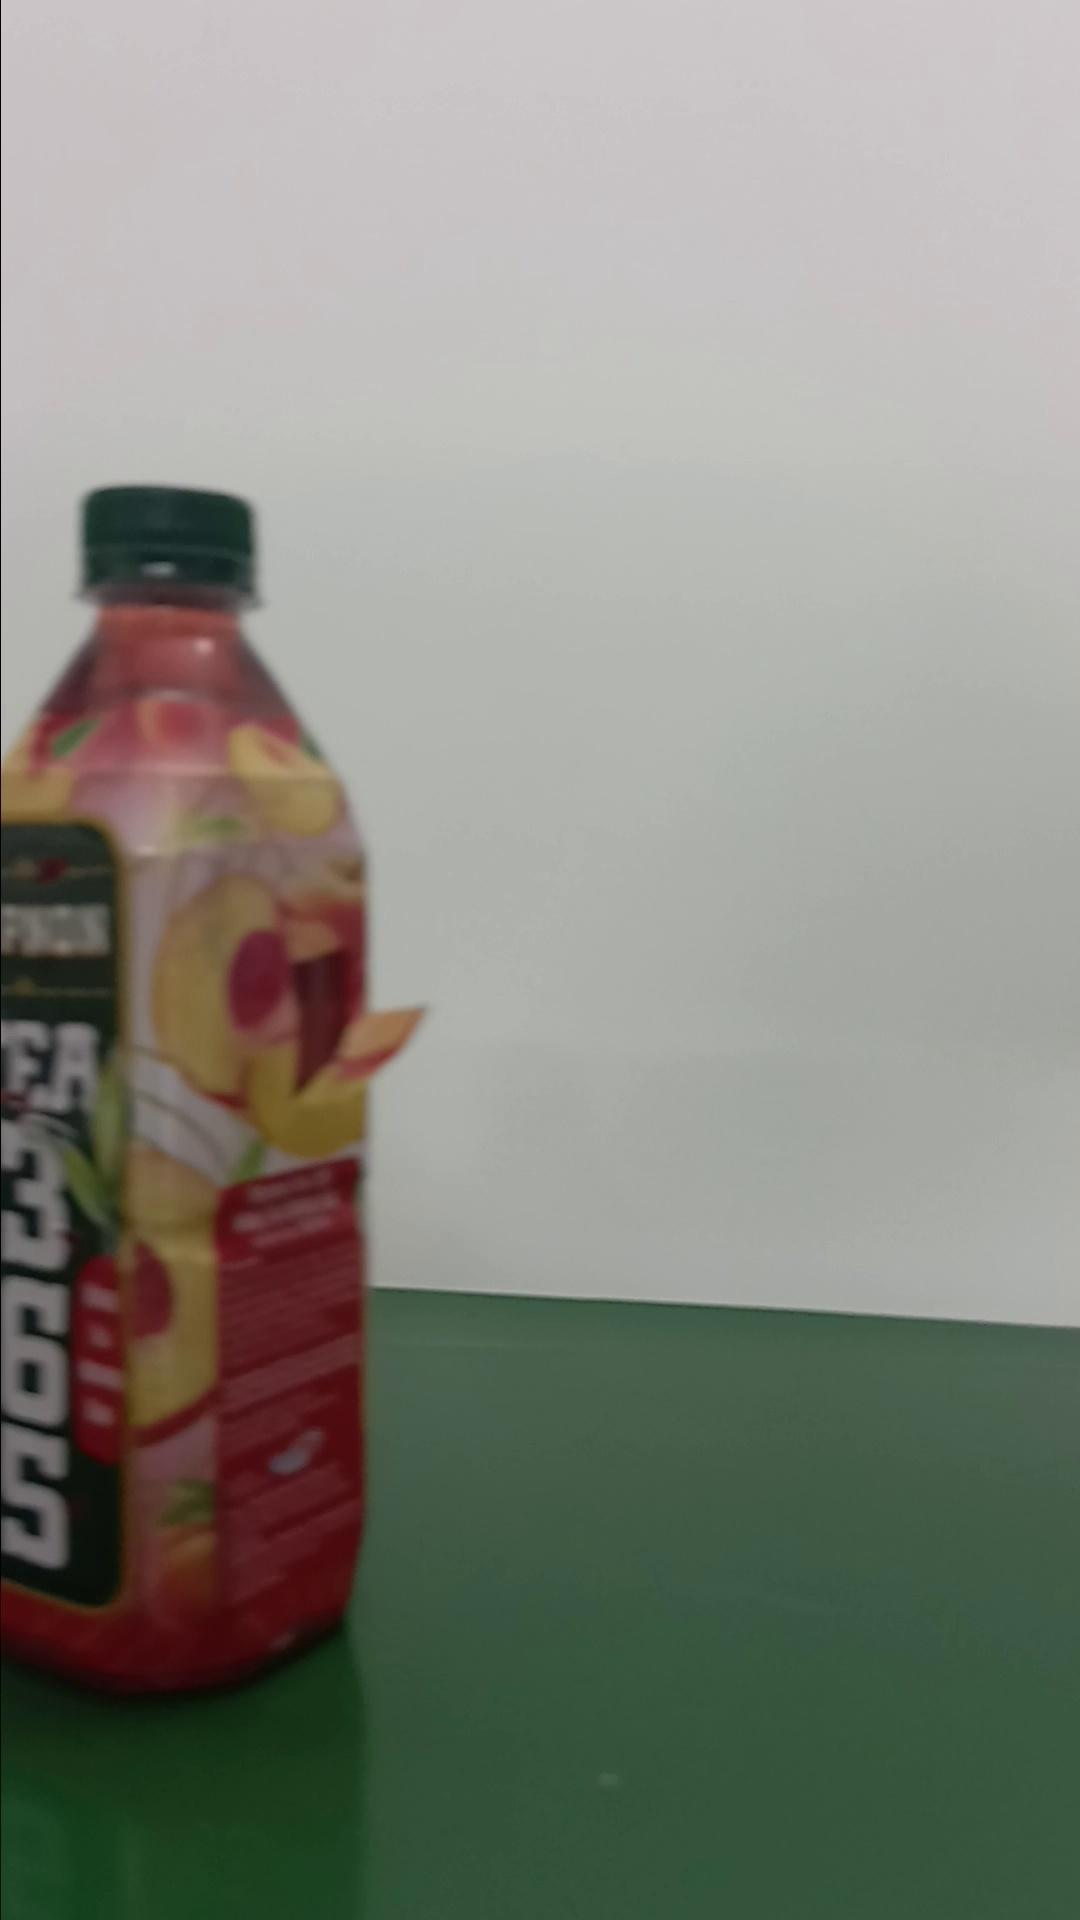loi rach va lap chai: (4, 473, 385, 1705)
